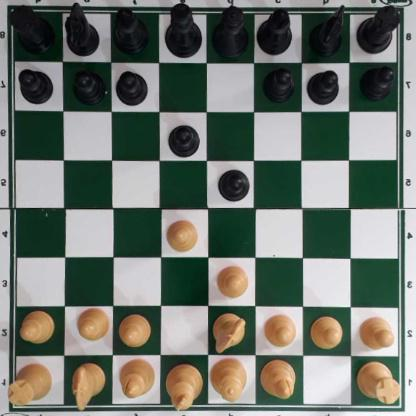black-bishop: (113, 7, 150, 54), (257, 7, 293, 54)
black-king: (165, 0, 201, 59)
black-knight: (309, 4, 345, 57), (66, 2, 99, 57)
black-pawn: (19, 67, 54, 104), (360, 65, 395, 100), (167, 121, 200, 156), (308, 68, 340, 104), (73, 68, 105, 103), (117, 69, 148, 104), (264, 67, 295, 101), (219, 168, 250, 201)
black-queen: (211, 6, 250, 56)
black-rook: (356, 6, 402, 52), (13, 6, 55, 53)
white-bishop: (119, 358, 155, 400), (262, 358, 296, 400)
white-king: (169, 361, 202, 410)
white-knight: (72, 361, 106, 411), (212, 311, 246, 352)
white-pawn: (358, 315, 397, 349), (216, 263, 250, 298), (264, 312, 298, 347), (19, 310, 55, 343), (120, 313, 153, 347), (167, 218, 200, 252), (77, 307, 109, 341), (311, 315, 344, 347)
white-queen: (208, 357, 250, 401)
white-rook: (356, 360, 401, 403), (8, 362, 53, 405)
